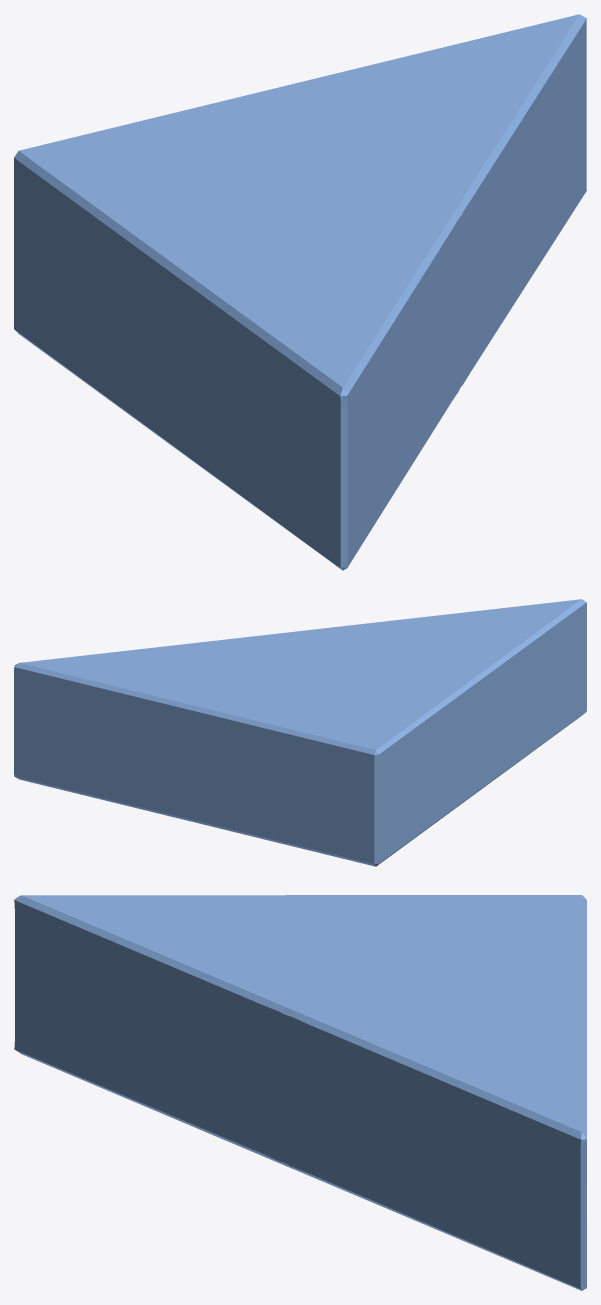
Rendered from Triangulo_01.fbx.
The picture shows the model from 3 angles, top to bottom: view 1: azimuth 30°, elevation 25°; view 2: azimuth 150°, elevation 25°; view 3: azimuth 270°, elevation 25°; orthographic projection. The views are drawn at different scales.
Parts seen in each view (by area): view 1: polySurface14; view 2: polySurface14; view 3: polySurface14.
Boxes of the visible parts, x1,y1,x2,y2 form: polySurface14: (14,14,586,570); polySurface14: (14,599,586,866); polySurface14: (14,895,586,1290).
Bounding box in the file's own units: 4.16 × 1.27 × 4.16.
